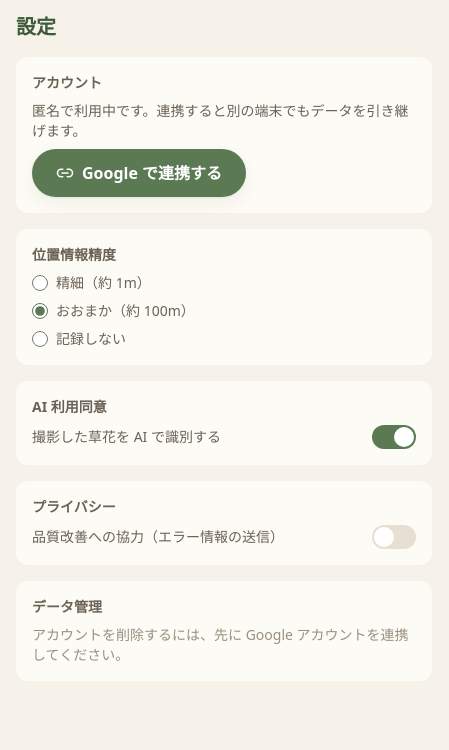
Scenario: SettingsPage › 保存成功で「保存しました」toast を表示する
Click the radio button labelled "記録しない" at coordinates (40, 339), box [32, 331, 48, 347]
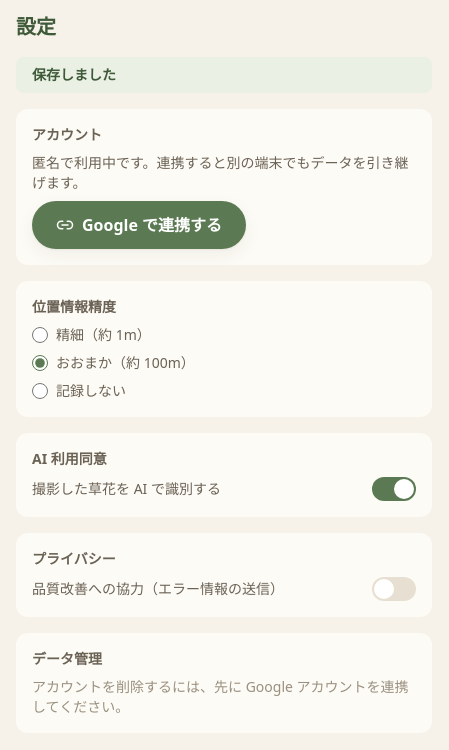
Now the message reads "保存しました", box [32, 65, 116, 84]
